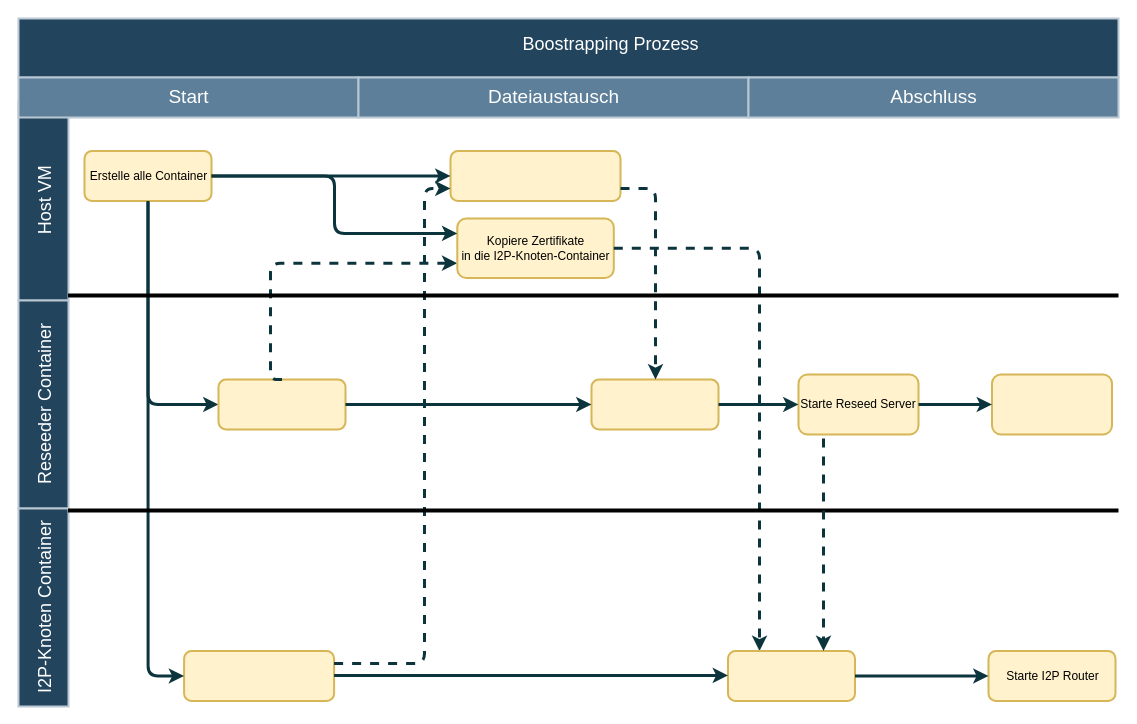
Some shapes in this 1137 by 724 pixel diagram are drawn without their labels. Here are the shapes that lost their labels. From the top down, the box of each, then its label:
(449, 150, 621, 202): Kopiere alle RouterInfos in den Reseeder-Container
(217, 378, 346, 430): Erstelle Schlüssel und Zerifikate
(590, 378, 719, 430): Warte auf alle RouterInfos
(990, 373, 1112, 435): Stelle su3 Reseed Datei zur Verfügung
(183, 650, 335, 702): Erstelle Router-Info Datei indem der I2P Router kurz getartet wird
(726, 650, 856, 702): Warte auf HTTPS-Reseed-Server
